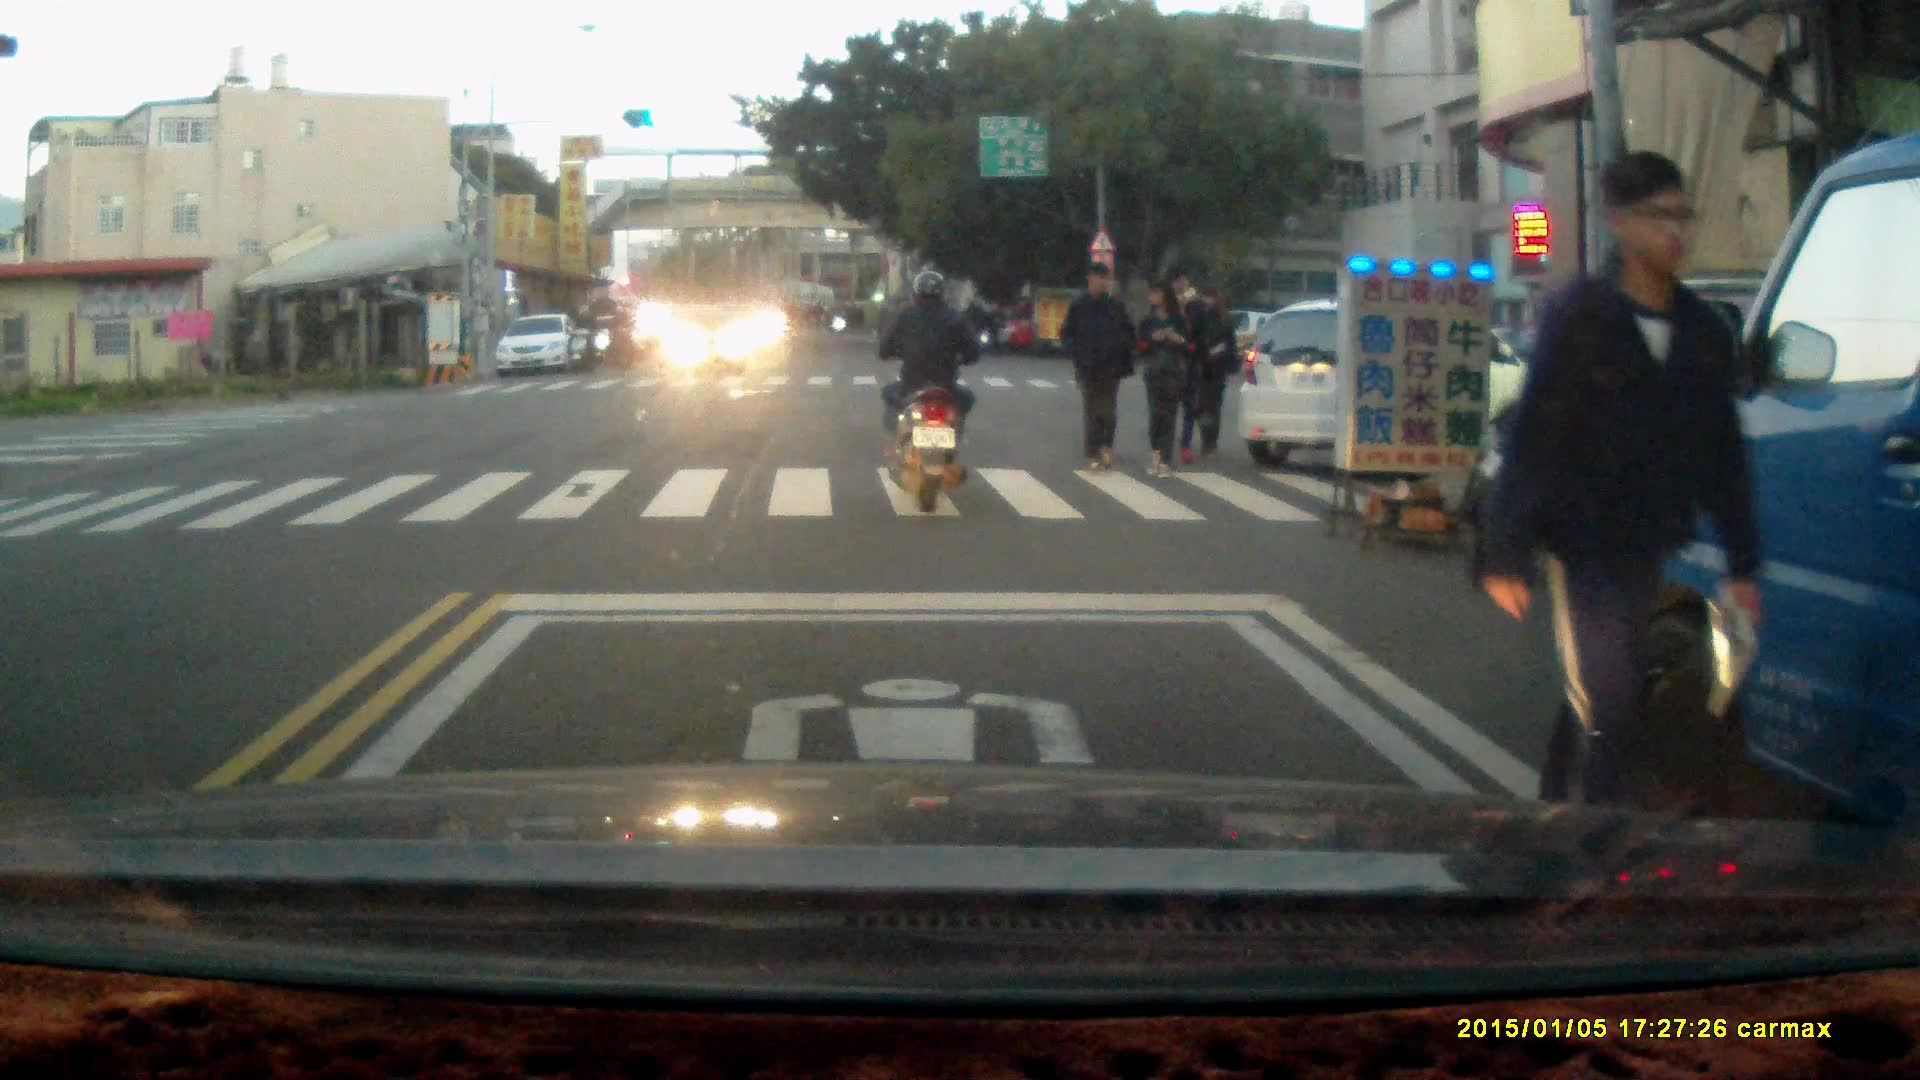pedestrian: (1487, 143, 1762, 857), (1062, 263, 1133, 479), (1133, 278, 1197, 484), (1157, 263, 1204, 472), (1187, 284, 1239, 465)
rider: (876, 264, 992, 514), (603, 301, 635, 370), (567, 299, 598, 375)
vehicle: (1604, 132, 1920, 883), (1236, 303, 1557, 469), (654, 310, 752, 380), (494, 311, 585, 378)
